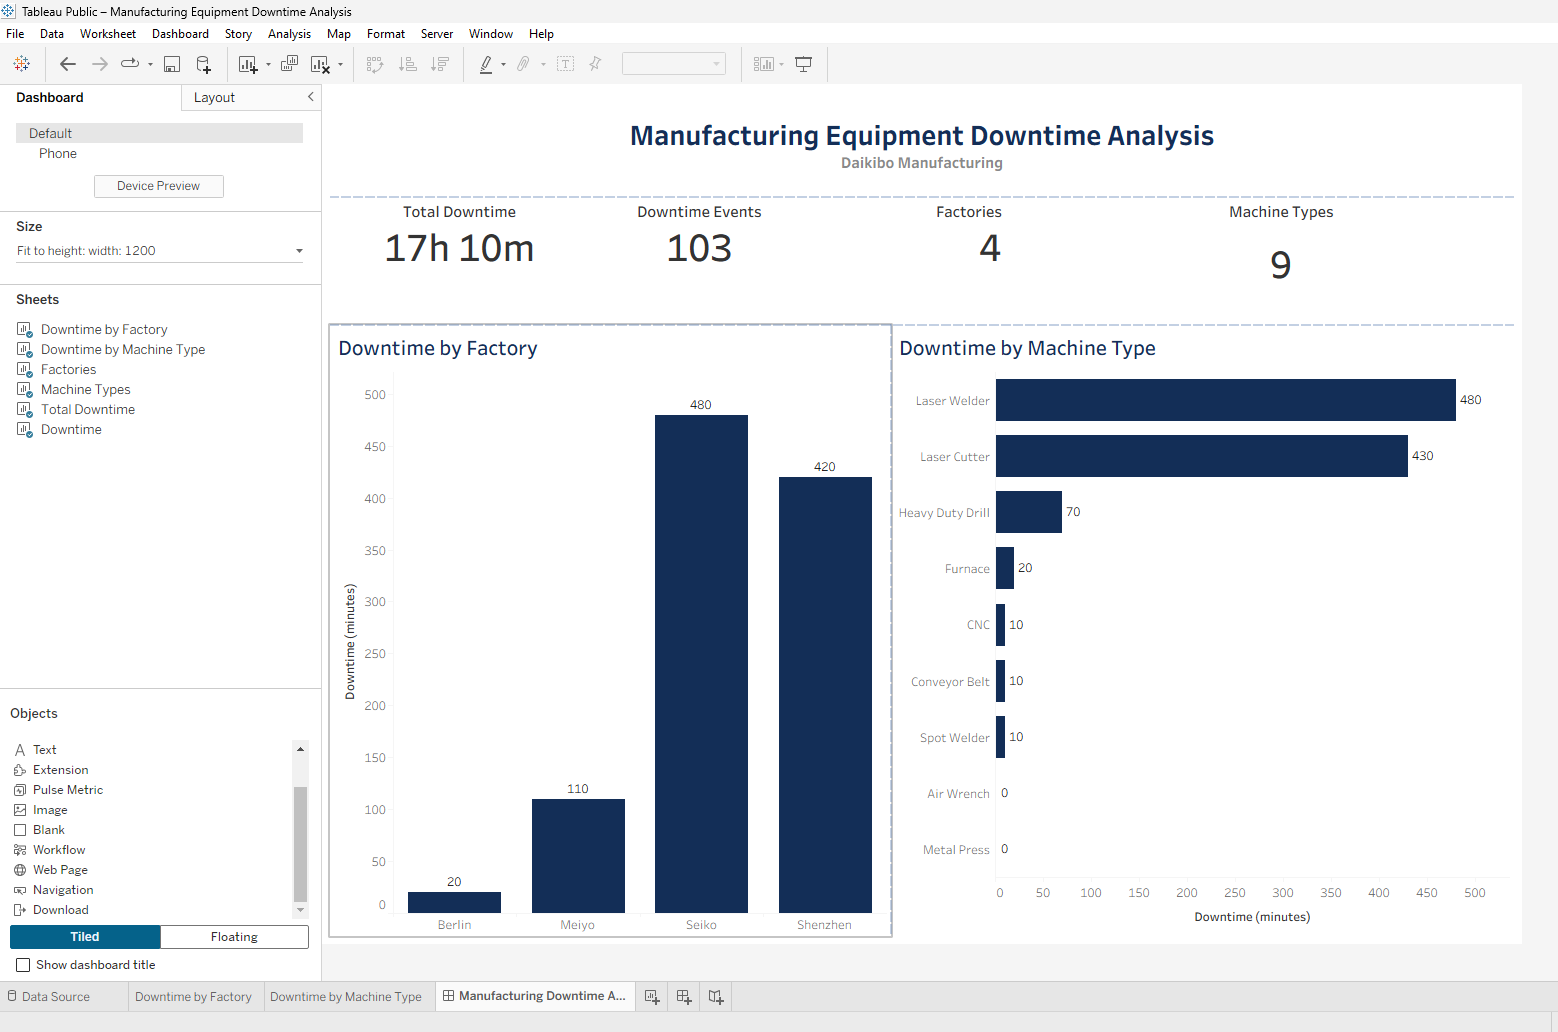

What the dashboard file says about the page in this screenshot:
{"tool":"tableau","page":{"name":"Manufacturing Downtime Analysis","canvas":[1000,1000],"units":"permille","ordinal":0},"visuals":[{"type":"text","box":[6.7,9.3,986.7,122.7]},{"type":"worksheet","title":"Total Downtime","mark":"Automatic","box":[6.7,131.4,246.7,148.8]},{"type":"worksheet","title":"Downtime ","mark":"Automatic","box":[253.3,131.4,246.7,148.8]},{"type":"worksheet","title":"Factories","mark":"Automatic","box":[500,131.4,246.7,148.8]},{"type":"worksheet","title":"Machine Types","mark":"Automatic","box":[746.7,131.4,246.7,148.8]},{"type":"worksheet","title":"Downtime by Factory","mark":"Automatic","rows":["Calculation_0601758911586305"],"cols":["Calculation_0601758936973316"],"box":[6.7,280.2,467.5,710.5]},{"type":"worksheet","title":"Downtime by Machine Type","mark":"Automatic","rows":["Calculation_0601758943678469"],"cols":["Calculation_0601758911586305"],"box":[474.2,280.2,519.2,710.5]}]}

Visuals, with their boxes on the dashboard's canvas, which has no fixed pixel size, in thousandths of its width and height (x1, y1, x2, y2). These are canvas units, not pixel positions in the 1558x1032 screenshot, which may show the page scaled, cropped or inside an application window:
text: <bbox>7, 9, 993, 132</bbox>
"Total Downtime" worksheet: <bbox>7, 131, 253, 280</bbox>
"Downtime " worksheet: <bbox>253, 131, 500, 280</bbox>
"Factories" worksheet: <bbox>500, 131, 747, 280</bbox>
"Machine Types" worksheet: <bbox>747, 131, 993, 280</bbox>
"Downtime by Factory" worksheet: <bbox>7, 280, 474, 991</bbox>
"Downtime by Machine Type" worksheet: <bbox>474, 280, 993, 991</bbox>
